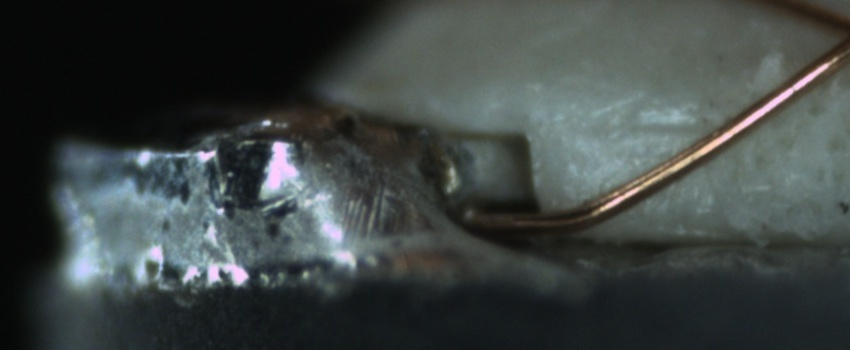DL: (576, 95, 717, 162)
